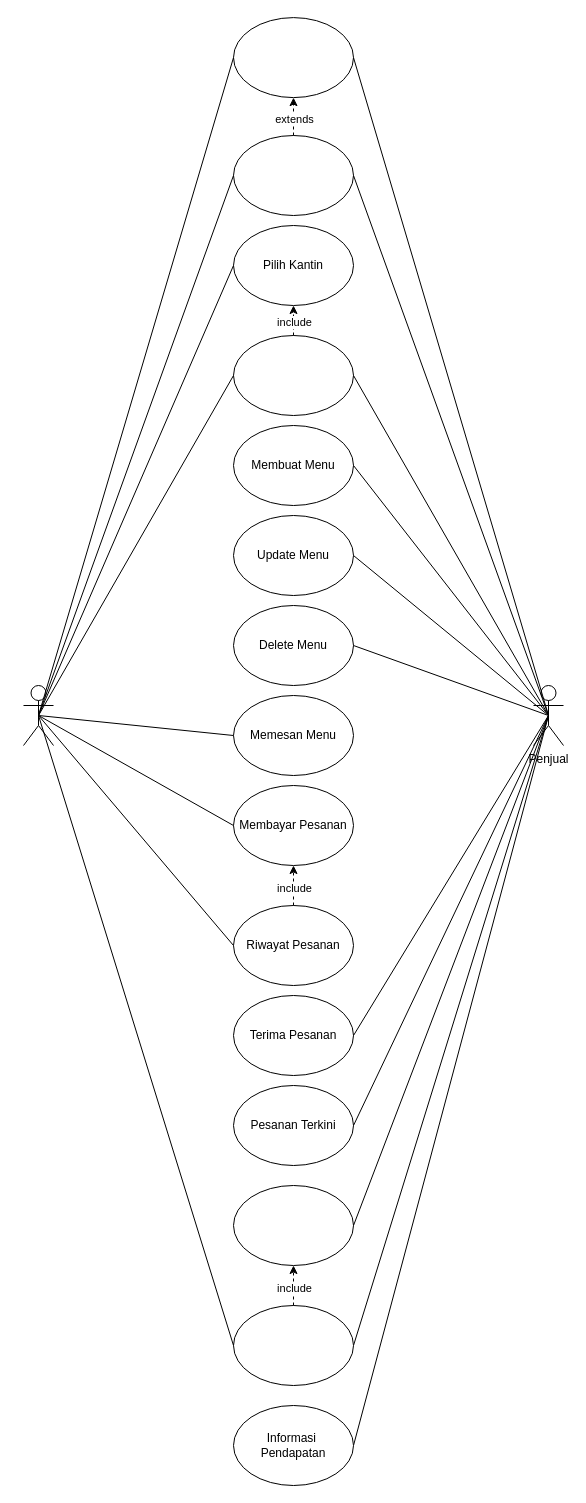
This 586x1503 diagram has some shape labels left out. Each missing label, with the centre of its shape:
"Lihat Status Pesanan" belongs at [293,1345].
"Login" belongs at [293,175].
"Melihat Menu" belongs at [293,375].
"Pembeli" belongs at [38,715].
"Registrasi" belongs at [293,57].
"Update Status Pesanan" belongs at [293,1225].
